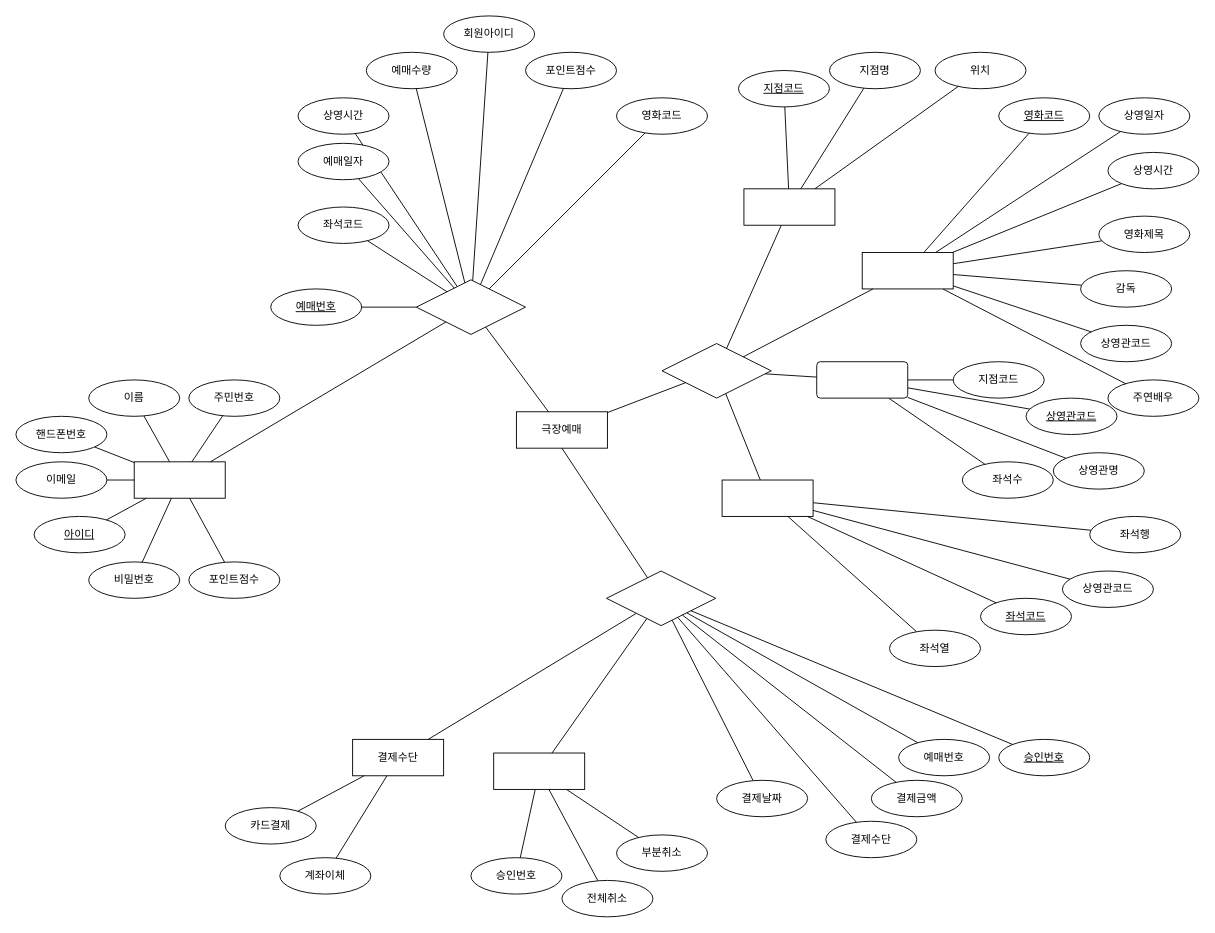
Image size: 1215x933. Some labels were removed from this diagram. Here are the shapes that lost their labels. From the top down, the centre of each, then its label:
At point 789,206: "극장".
At point 907,270: "영화".
At point 470,306: "예매".
At point 716,370: "상영위치".
At point 862,379: "상영관".
At point 179,479: "회원".
At point 767,497: "좌석".
At point 661,598: "결제".
At point 539,770: "취소수단".
